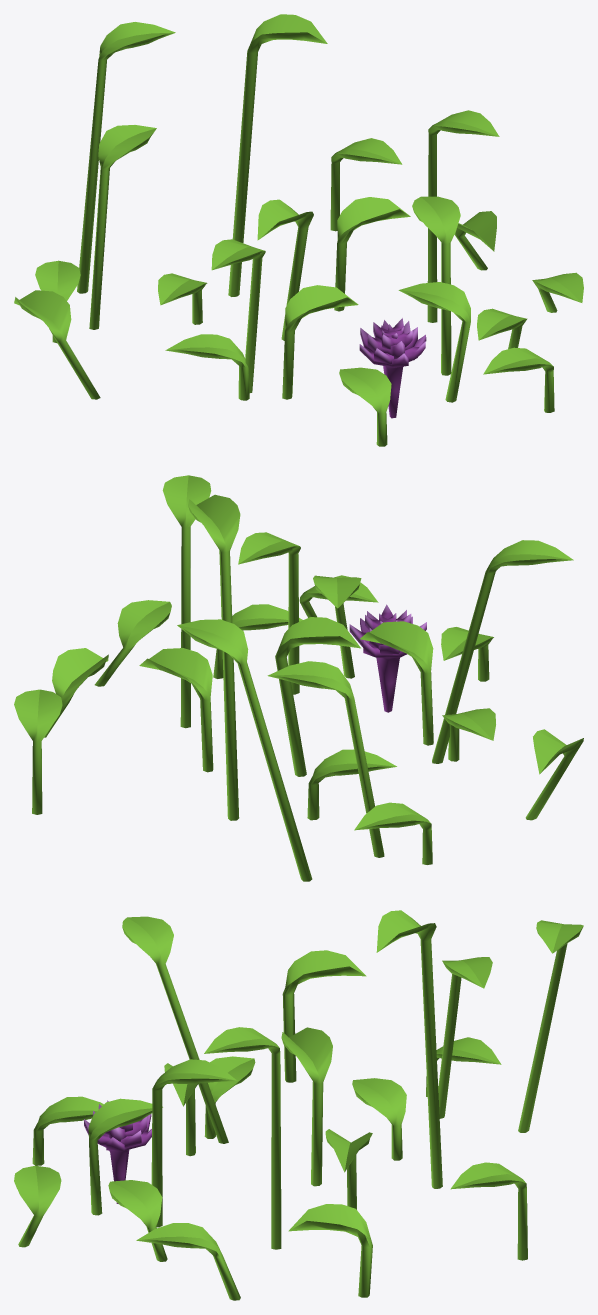
File: Vegetacao-Meia-Noite-Tipo02.fbx
3 renders of one model, top to bottom at view 1: azimuth 30°, elevation 25°; view 2: azimuth 150°, elevation 25°; view 3: azimuth 270°, elevation 25°, orthographic. The views are drawn at different scales.
Parts seen in each view (by area): view 1: Vegetacao-Meia-Noite-Tipo02; view 2: Vegetacao-Meia-Noite-Tipo02; view 3: Vegetacao-Meia-Noite-Tipo02.
Boxes of the visible parts, <box> form: Vegetacao-Meia-Noite-Tipo02: <box>14,14,583,446</box>; Vegetacao-Meia-Noite-Tipo02: <box>14,475,583,881</box>; Vegetacao-Meia-Noite-Tipo02: <box>14,910,583,1300</box>.
Size of the model in its own units: 77.73 by 43.17 by 74.66.
